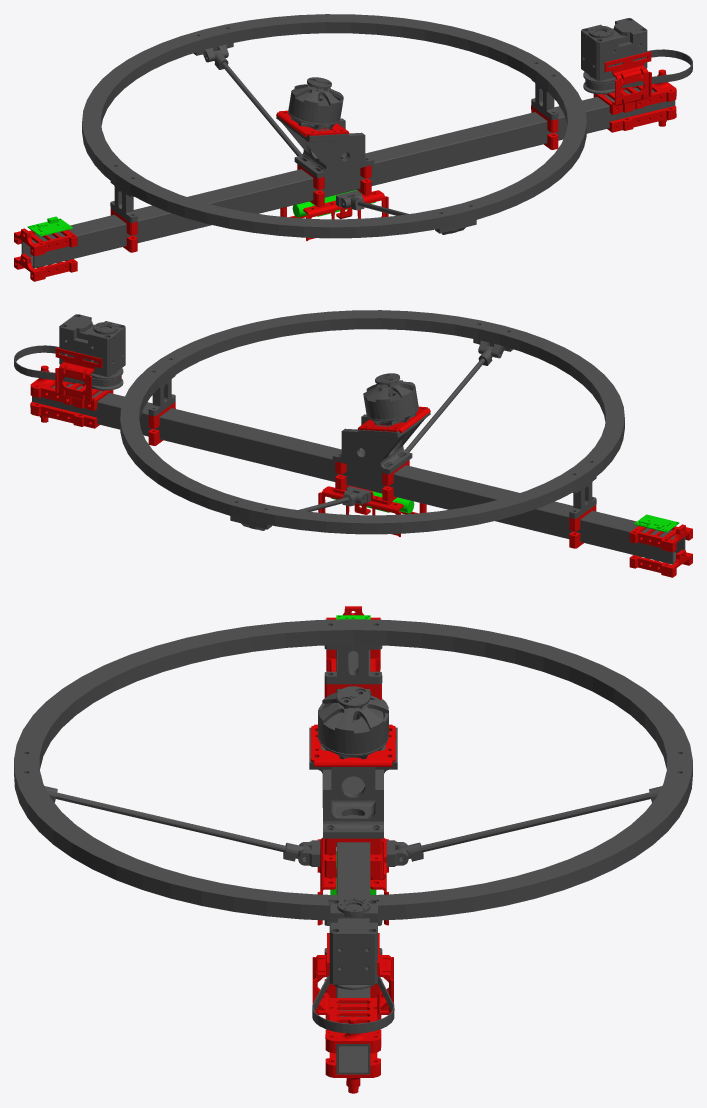
The model's file is tilt_10deg_15inch_link1.dae.
3 views of the same model, one above another, from view 1: azimuth 30°, elevation 25°; view 2: azimuth 150°, elevation 25°; view 3: azimuth 270°, elevation 25° (orthographic). The views are drawn at different scales.
Visible parts, largest first — view 1: link1_tilt_15inch_black, link1_tilt_15inch_red, link1_green_part; view 2: link1_tilt_15inch_black, link1_tilt_15inch_red, link1_green_part; view 3: link1_tilt_15inch_black, link1_tilt_15inch_red.
Part boxes in pixels (x1,y1,x2,y2): link1_tilt_15inch_black: (21,14,692,268); link1_tilt_15inch_red: (14,51,676,281); link1_green_part: (27,190,375,236); link1_tilt_15inch_black: (14,310,685,564); link1_tilt_15inch_red: (30,347,692,577); link1_green_part: (331,491,679,532); link1_tilt_15inch_black: (14,619,692,1074); link1_tilt_15inch_red: (311,606,395,1093).
Bounding box in the file's own units: 0.6083 × 0.4 × 0.1271.
